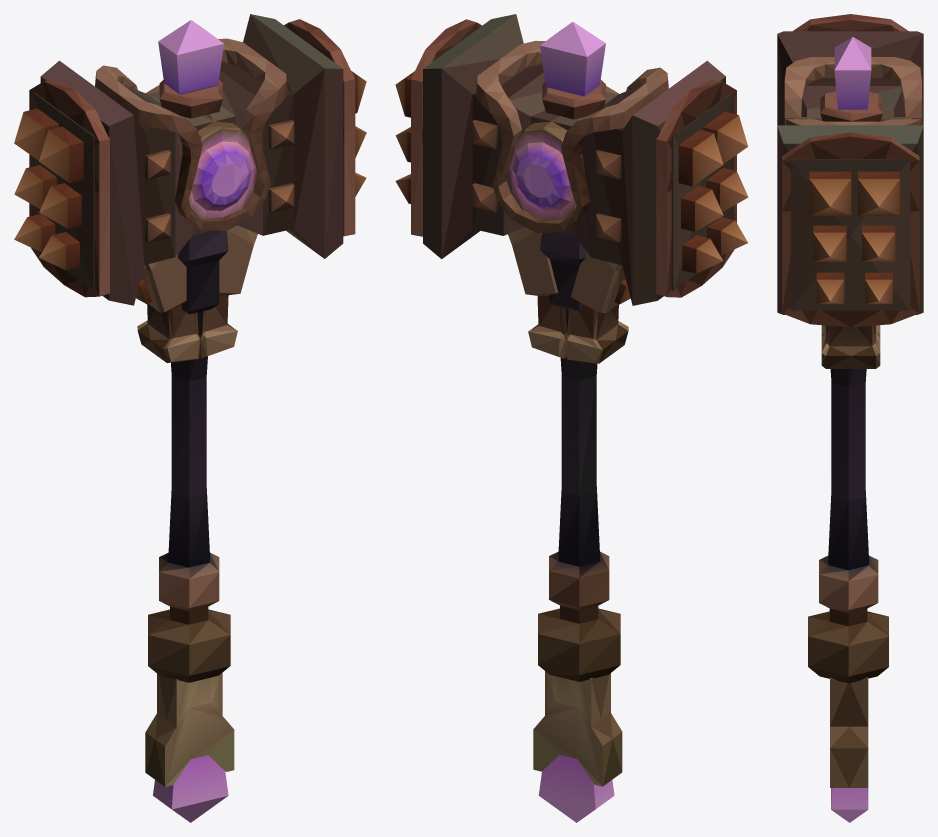
Rendered from weapon_hammer_bronze_5.fbx.
The picture shows the model from 3 angles, left to right: view 1: azimuth 30°, elevation 25°; view 2: azimuth 150°, elevation 25°; view 3: azimuth 270°, elevation 25°; orthographic projection.
Visible parts, largest first — view 1: weapon_hammer_bronze_5; view 2: weapon_hammer_bronze_5; view 3: weapon_hammer_bronze_5.
Boxes of the visible parts, x1,y1,x2,y2 form: weapon_hammer_bronze_5: (14,14,366,822); weapon_hammer_bronze_5: (395,14,748,822); weapon_hammer_bronze_5: (777,14,923,822).
Size of the model in its own units: 1.36 by 3.19 by 0.5371.
